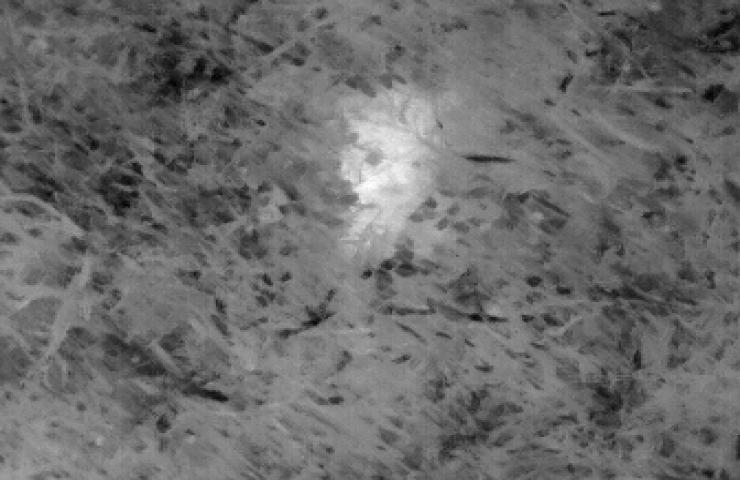landmines: (336, 104, 446, 210)
